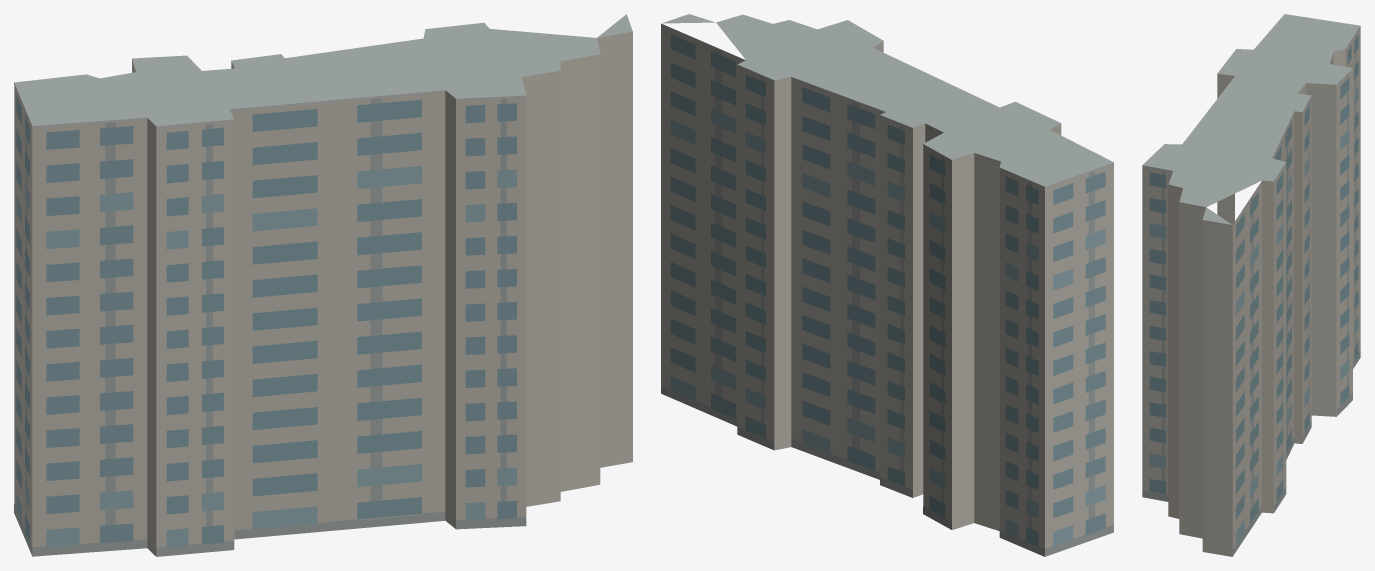
File: residential-6b991acd-2c40-489b-9efc-bfd6c2ba0bd1.glb
3 views of the same model, side by side, from view 1: azimuth 30°, elevation 25°; view 2: azimuth 150°, elevation 25°; view 3: azimuth 270°, elevation 25° (orthographic). The views are drawn at different scales.
Parts seen in each view (by area): view 1: residential-6b991acd-2c40-489b-9efc-bfd6c2ba0bd1.tmp; view 2: residential-6b991acd-2c40-489b-9efc-bfd6c2ba0bd1.tmp; view 3: residential-6b991acd-2c40-489b-9efc-bfd6c2ba0bd1.tmp.
Boxes of the visible parts, <box> form: residential-6b991acd-2c40-489b-9efc-bfd6c2ba0bd1.tmp: <box>14,14,632,556</box>; residential-6b991acd-2c40-489b-9efc-bfd6c2ba0bd1.tmp: <box>661,14,1113,556</box>; residential-6b991acd-2c40-489b-9efc-bfd6c2ba0bd1.tmp: <box>1142,14,1360,556</box>.
Size of the model in its own units: 62.68 by 46 by 27.41.
